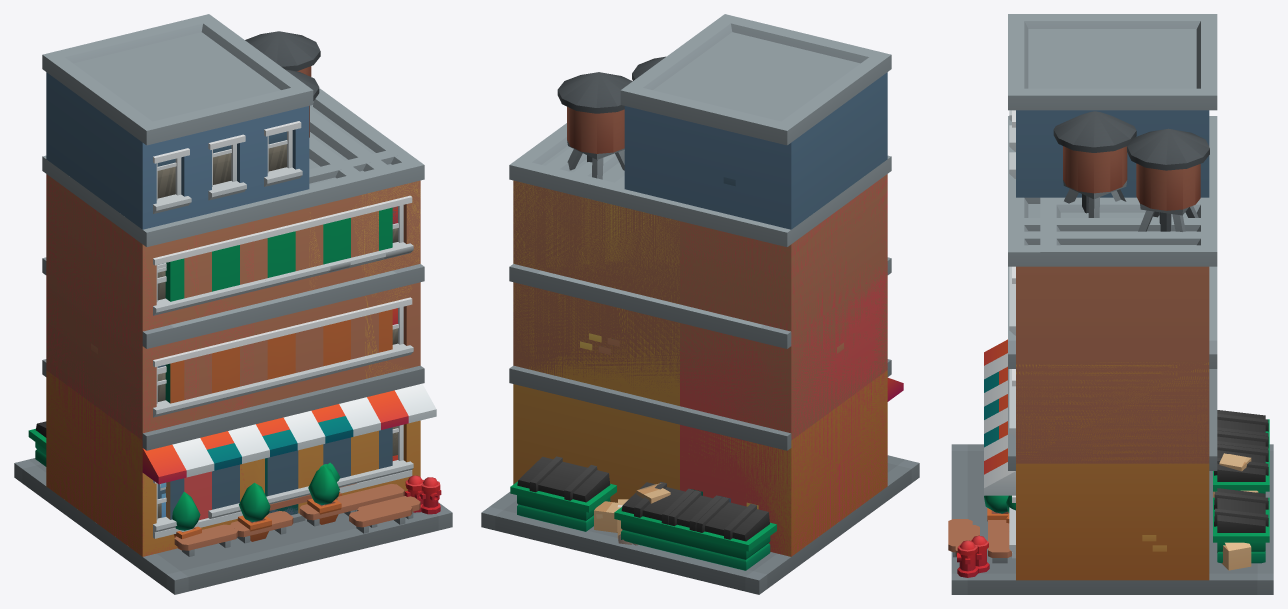
Rendered from street.glb.
3 renders of one model, left to right at view 1: azimuth 30°, elevation 25°; view 2: azimuth 150°, elevation 25°; view 3: azimuth 270°, elevation 25°, orthographic.
Parts seen in each view (by area): view 1: building_E, building_H, building_F, building_D, building_G, building_B, building_A, building_C; view 2: building_E, building_F, building_H, building_D, building_G, building_C, building_B, building_A; view 3: building_E, building_H, building_D, building_F, building_C, building_G, building_B, building_A.
Part boxes in pixels (bbox=[...]): building_E: bbox=[42, 105, 436, 556]; building_H: bbox=[28, 14, 420, 533]; building_F: bbox=[46, 175, 424, 556]; building_D: bbox=[15, 69, 452, 594]; building_G: bbox=[42, 88, 441, 532]; building_B: bbox=[170, 270, 396, 543]; building_A: bbox=[207, 277, 423, 513]; building_C: bbox=[14, 135, 360, 594]; building_E: bbox=[509, 146, 903, 556]; building_F: bbox=[511, 177, 889, 556]; building_H: bbox=[557, 14, 891, 570]; building_D: bbox=[482, 56, 918, 580]; building_G: bbox=[509, 123, 891, 563]; building_C: bbox=[481, 150, 919, 594]; building_B: bbox=[537, 270, 763, 547]; building_A: bbox=[565, 277, 734, 495]; building_E: bbox=[972, 197, 1269, 580]; building_H: bbox=[955, 14, 1269, 570]; building_D: bbox=[948, 111, 1273, 580]; building_F: bbox=[984, 340, 1217, 563]; building_C: bbox=[951, 204, 1273, 594]; building_G: bbox=[957, 116, 1269, 577]; building_B: bbox=[988, 266, 1269, 531]; building_A: bbox=[971, 371, 1015, 573].
Bounding box in the file's own units: 2.01 × 3.11 × 2.02.
1 material, 1 textured.
